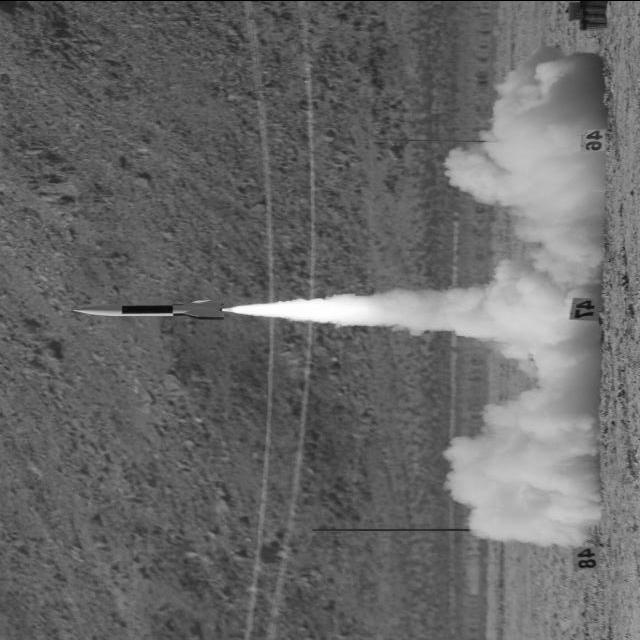Missile: (71, 299, 227, 320)
